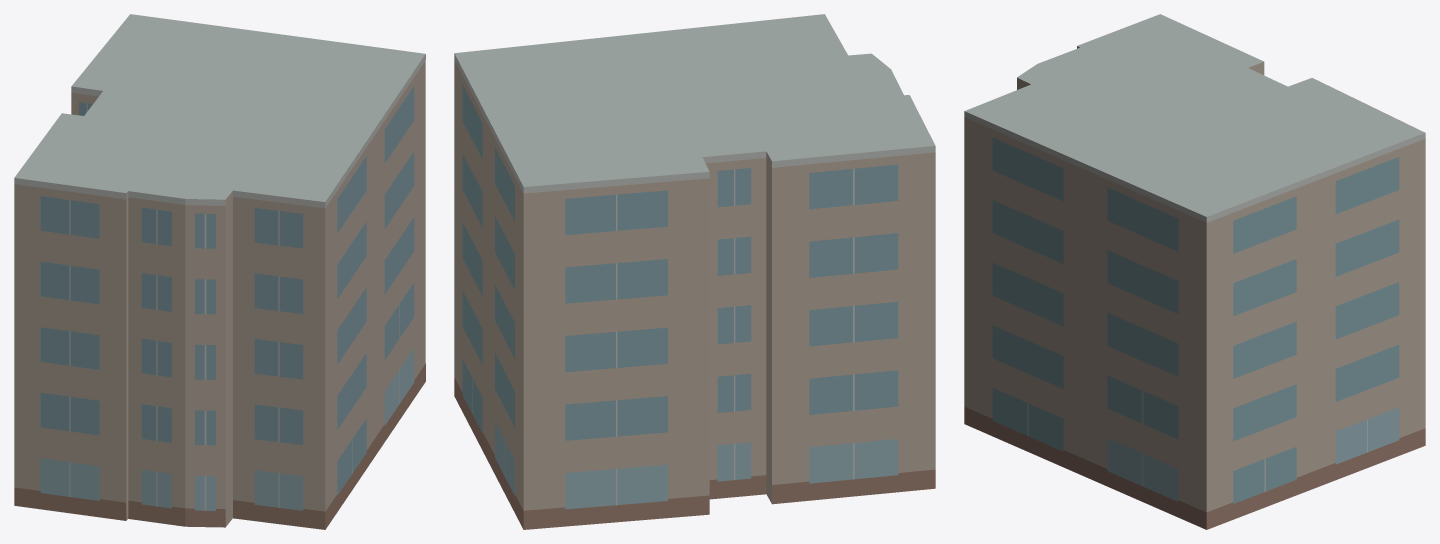
Rendered from survey-upis-32990350.glb.
3 views of the same model, side by side, from view 1: azimuth 30°, elevation 25°; view 2: azimuth 150°, elevation 25°; view 3: azimuth 270°, elevation 25° (orthographic). The views are drawn at different scales.
Parts seen in each view (by area): view 1: survey-upis-32990350.tmp; view 2: survey-upis-32990350.tmp; view 3: survey-upis-32990350.tmp.
Boxes of the visible parts, <box> form: survey-upis-32990350.tmp: <box>14,14,425,529</box>; survey-upis-32990350.tmp: <box>454,14,935,529</box>; survey-upis-32990350.tmp: <box>964,14,1425,529</box>.
Bounding box in the file's own units: 17.96 × 12.9 × 17.24.
